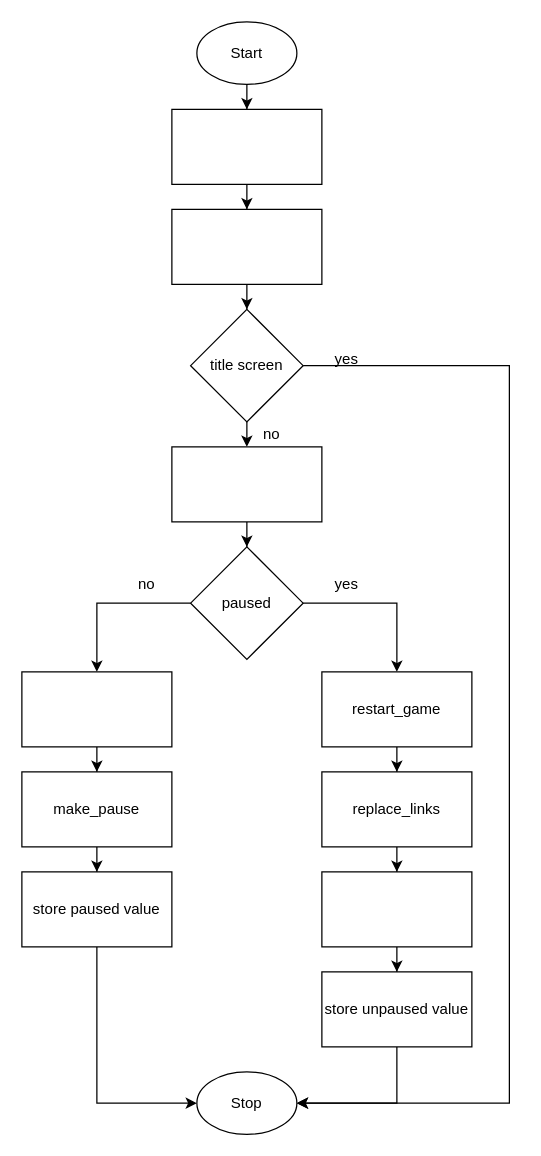
The diagram is 541 pixels wide and 1156 high, and some of its shapes have lost their labels. Here are the shapes that lost their labels. From the top down, the centre of each, then its label:
(246,146): Clear interrupt
(246,246): load screen number
(246,484): load pause
(96,709): turn off led
(396,909): place cursor
